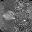people: (3, 11, 16, 21)
